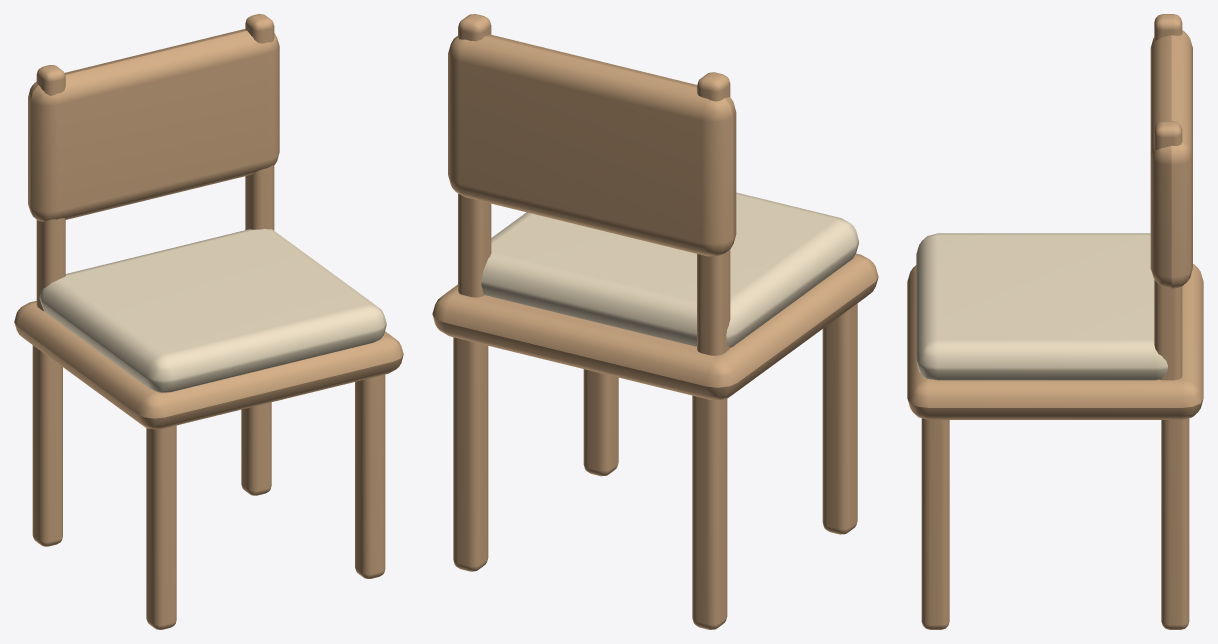
Rendered from natural-seat.glb.
3 views of the same model, side by side, from view 1: azimuth 30°, elevation 25°; view 2: azimuth 150°, elevation 25°; view 3: azimuth 270°, elevation 25° (orthographic). The views are drawn at different scales.
Parts seen in each view (by area): view 1: Chair leg.004; view 2: Chair leg.004; view 3: Chair leg.004.
Boxes of the visible parts, box(x1,y1,x2,y2) form: Chair leg.004: box(14, 14, 403, 629); Chair leg.004: box(432, 14, 878, 629); Chair leg.004: box(907, 14, 1203, 629).
Size of the model in its own units: 0.91 by 1.57 by 0.84.
